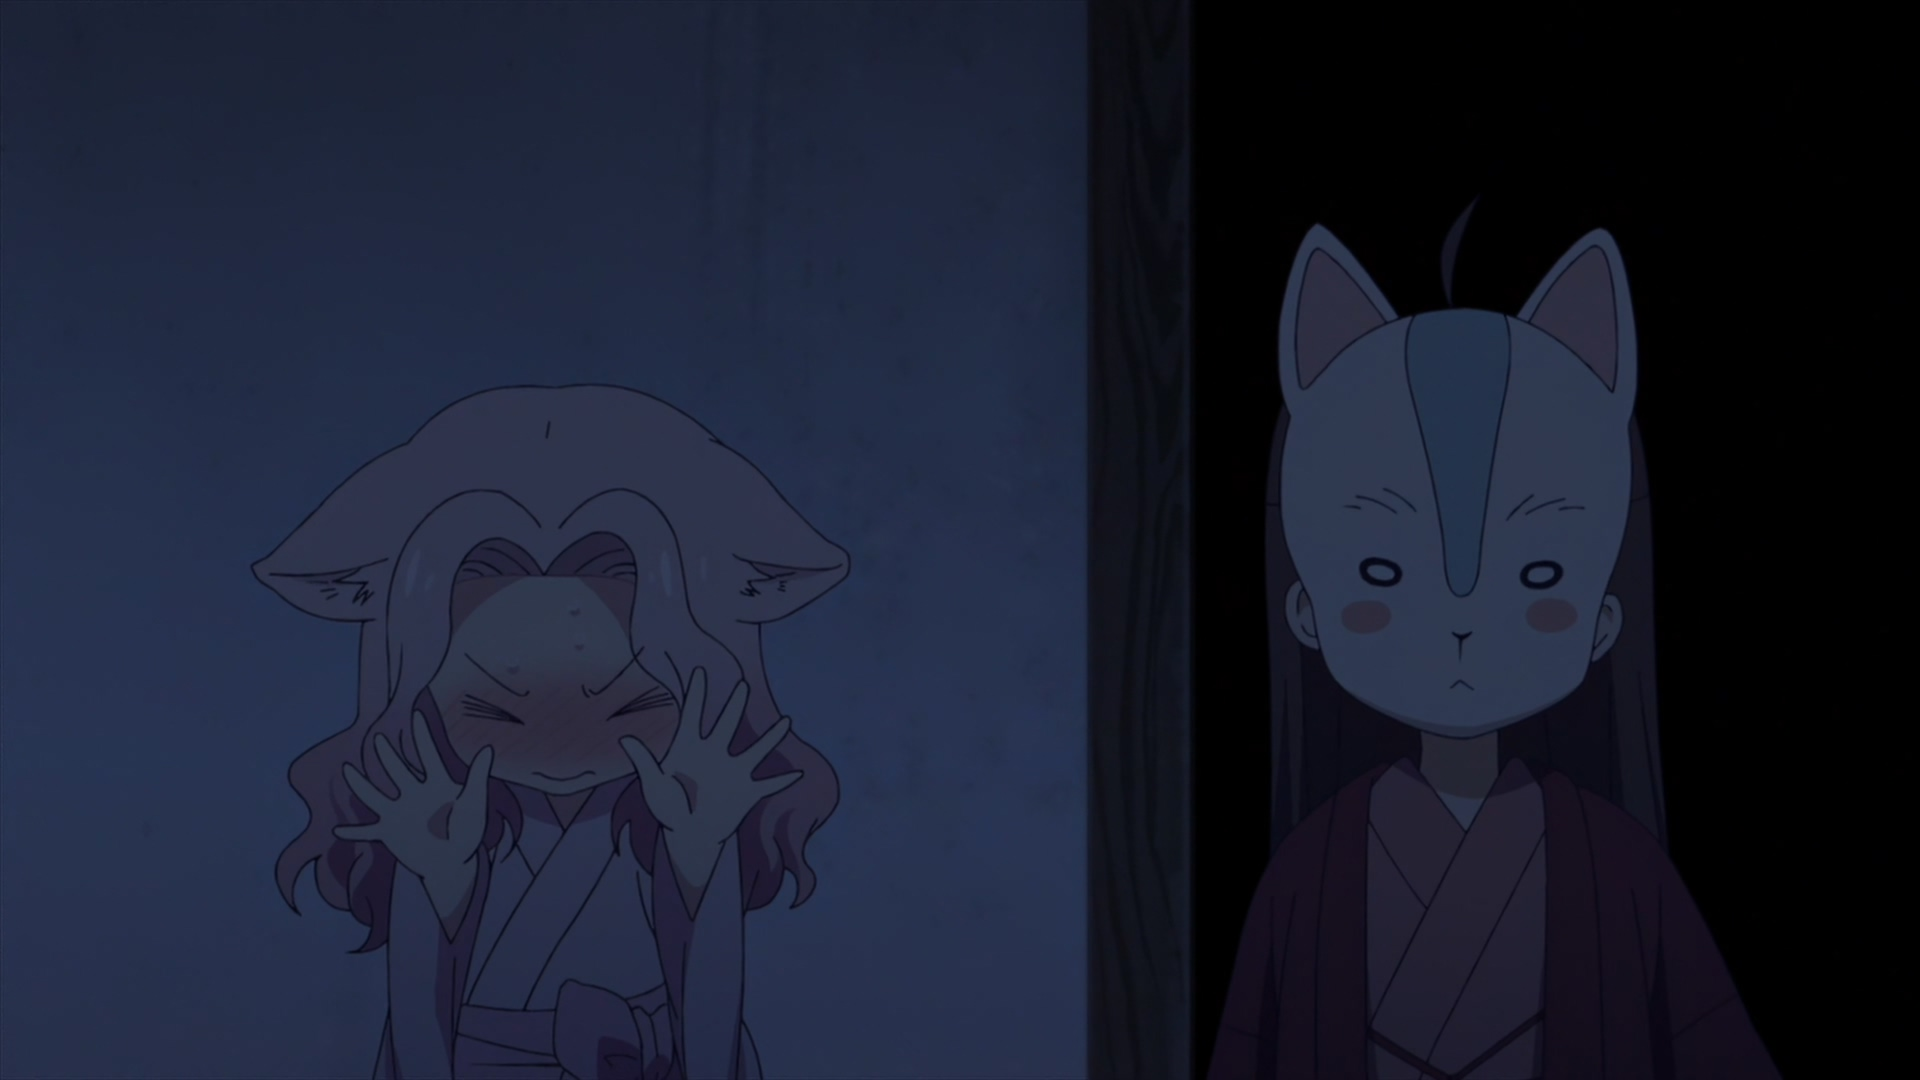其他: (1209, 193, 1767, 1080)
莲: (247, 380, 853, 1080)
